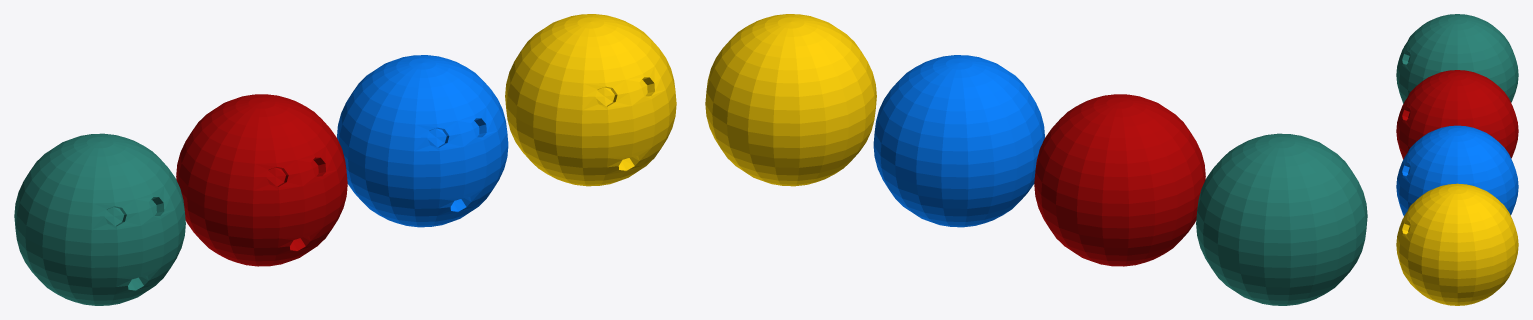
3 renders of one model, left to right at view 1: azimuth 30°, elevation 25°; view 2: azimuth 150°, elevation 25°; view 3: azimuth 270°, elevation 25°, orthographic. The views are drawn at different scales.
Visible parts, largest first — view 1: Object_4, Object_5, Object_7, Object_6; view 2: Object_4, Object_5, Object_7, Object_6; view 3: Object_5, Object_6, Object_4, Object_7.
Boxes of the visible parts, bbox=[...] form: Object_4: bbox=[14, 133, 185, 305]; Object_5: bbox=[505, 14, 676, 186]; Object_7: bbox=[176, 94, 347, 266]; Object_6: bbox=[337, 55, 508, 227]; Object_4: bbox=[1196, 133, 1367, 305]; Object_5: bbox=[705, 14, 876, 186]; Object_7: bbox=[1034, 94, 1205, 266]; Object_6: bbox=[873, 55, 1044, 227]; Object_5: bbox=[1396, 183, 1518, 305]; Object_6: bbox=[1396, 125, 1518, 215]; Object_4: bbox=[1396, 14, 1518, 103]; Object_7: bbox=[1396, 70, 1518, 159].
Bounding box in the file's own units: 8.57 × 2 × 2.
